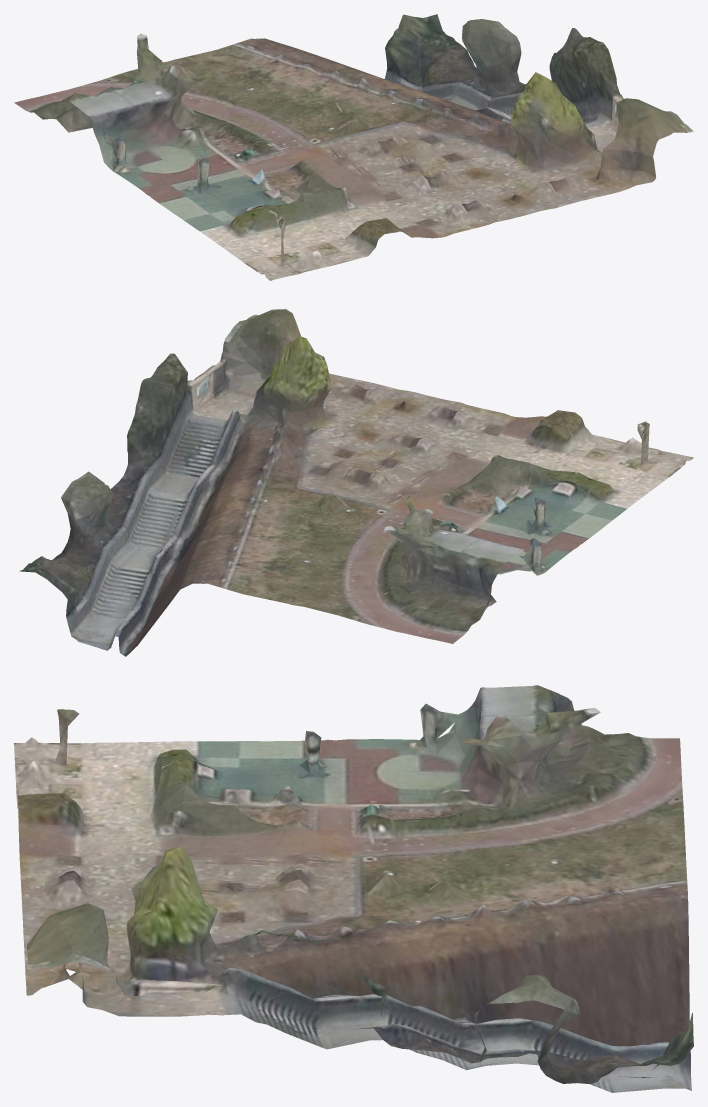
Rendered from Tile_+012_+008_L20_000001230.glb.
3 renders of one model, top to bottom at view 1: azimuth 30°, elevation 25°; view 2: azimuth 150°, elevation 25°; view 3: azimuth 270°, elevation 25°, orthographic. The views are drawn at different scales.
Visible parts, largest first — view 1: rtc; view 2: rtc; view 3: rtc.
Boxes of the visible parts, x1,y1,x2,y2 form: rtc: [14, 14, 693, 280]; rtc: [19, 309, 693, 656]; rtc: [14, 685, 693, 1092].
Size of the model in its own units: 32.13 by 12.06 by 32.13.
1 material, 1 textured.
